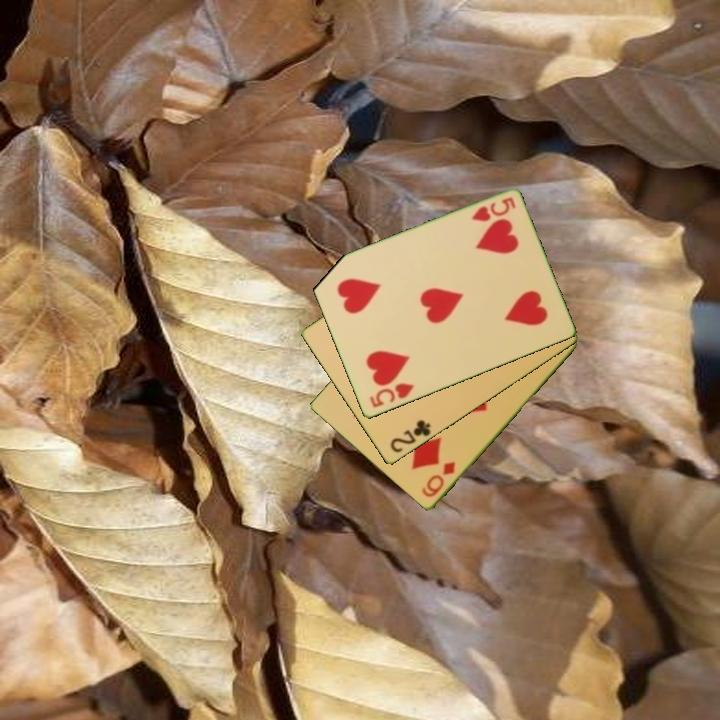2c: (386, 416, 434, 456)
5h: (366, 380, 417, 411), (468, 194, 518, 225)
6d: (418, 458, 459, 501)
